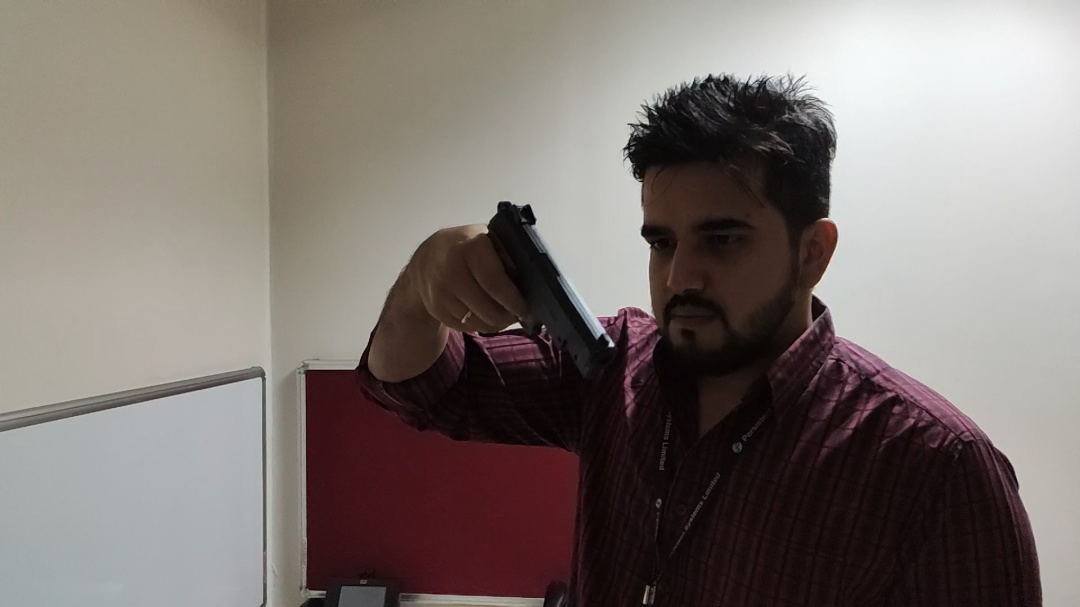gun: (466, 188, 617, 387)
